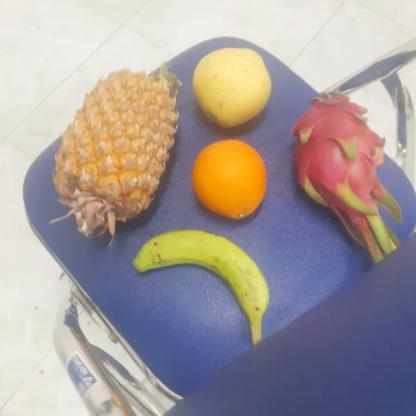banana: (132, 226, 273, 325)
orange: (189, 138, 275, 223)
pear: (189, 43, 276, 127)
pineapple: (56, 65, 184, 240)
pitaya: (292, 95, 388, 209)
